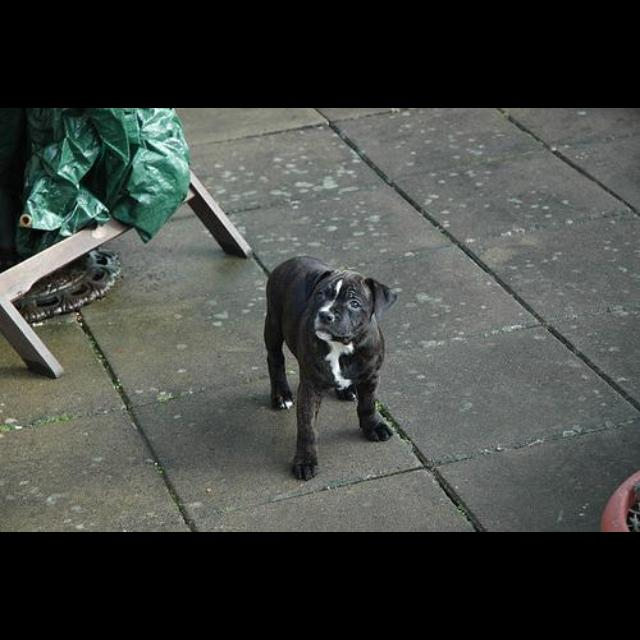staffford: (263, 256, 398, 483)
